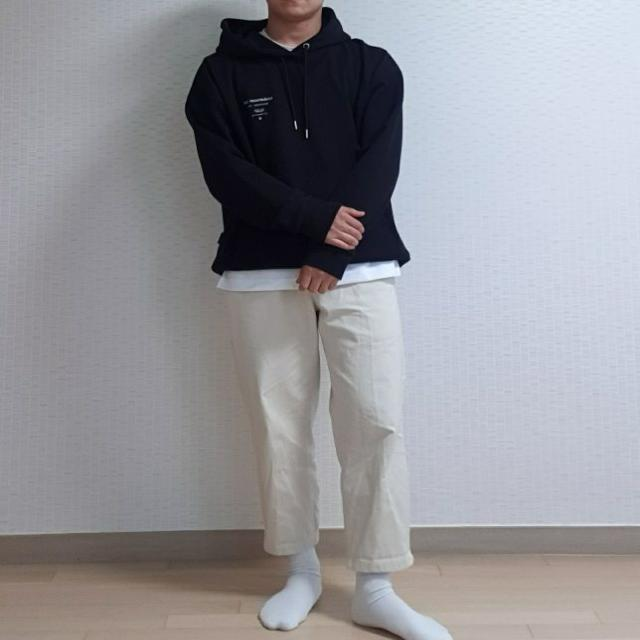cottonpants: (222, 275, 411, 577)
hoodies: (184, 6, 409, 284)
